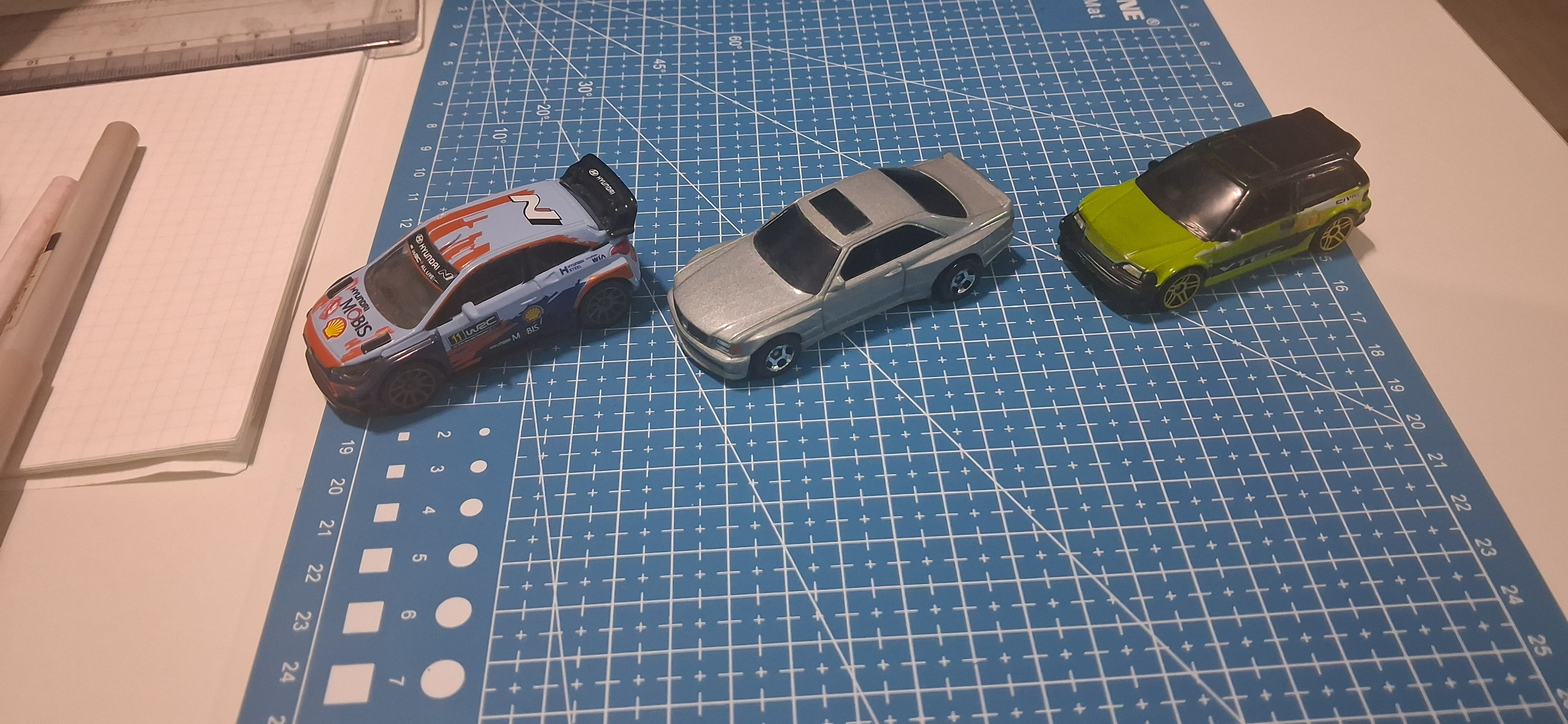Honda_Civic: (1045, 58, 1386, 395)
Hyundai_I20_WRC: (280, 95, 643, 494)
Mercedes_Benz_560_SEC_AMG: (658, 67, 1022, 492)
